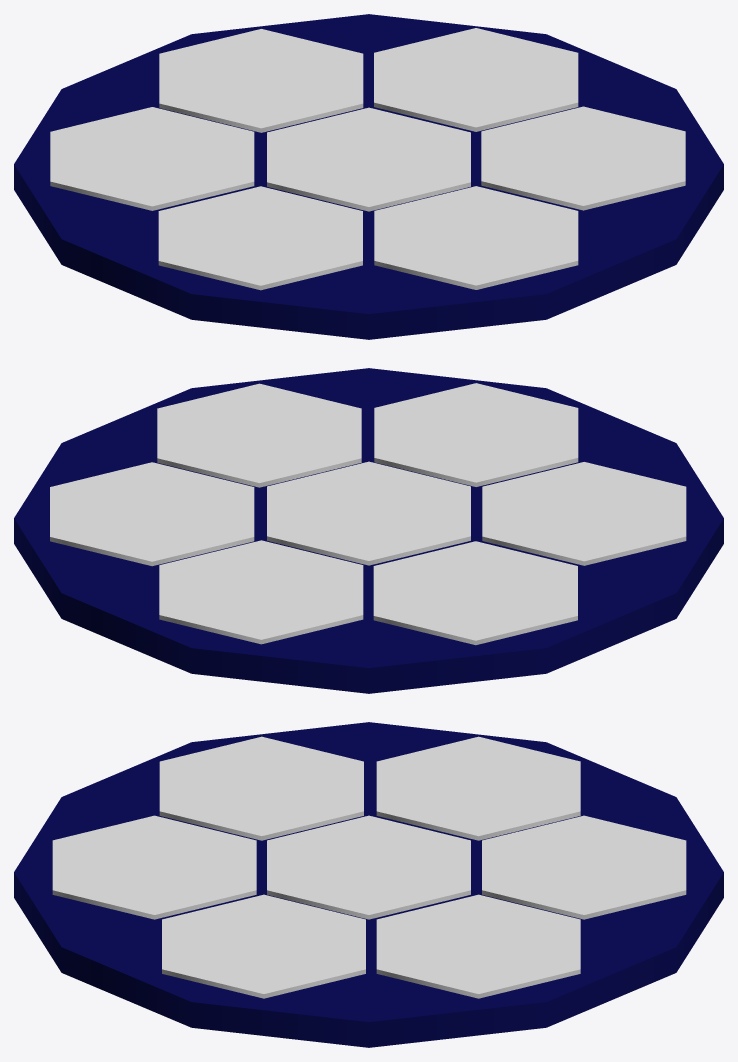
The model's file is sheild.FBX.
3 renders of one model, top to bottom at view 1: azimuth 30°, elevation 25°; view 2: azimuth 150°, elevation 25°; view 3: azimuth 270°, elevation 25°, orthographic.
Parts seen in each view (by area): view 1: Cylinder002, Cylinder004, Cylinder005, Cylinder006, Cylinder003, Cylinder007, Cylinder008, Cylinder001; view 2: Cylinder002, Cylinder004, Cylinder003, Cylinder006, Cylinder008, Cylinder005, Cylinder007, Cylinder001; view 3: Cylinder002, Cylinder007, Cylinder005, Cylinder006, Cylinder004, Cylinder003, Cylinder008, Cylinder001.
Part boxes in pixels (bbox=[...]): Cylinder002: bbox=[14, 14, 723, 339]; Cylinder004: bbox=[159, 29, 363, 132]; Cylinder005: bbox=[374, 28, 578, 131]; Cylinder006: bbox=[158, 186, 362, 290]; Cylinder003: bbox=[50, 107, 254, 210]; Cylinder007: bbox=[374, 186, 578, 289]; Cylinder008: bbox=[481, 106, 685, 210]; Cylinder001: bbox=[267, 107, 470, 211]; Cylinder002: bbox=[14, 368, 723, 693]; Cylinder004: bbox=[159, 540, 363, 644]; Cylinder003: bbox=[373, 541, 577, 645]; Cylinder006: bbox=[482, 462, 686, 565]; Cylinder008: bbox=[157, 383, 361, 487]; Cylinder005: bbox=[50, 462, 254, 566]; Cylinder007: bbox=[374, 383, 578, 486]; Cylinder001: bbox=[267, 461, 470, 565]; Cylinder002: bbox=[14, 722, 723, 1047]; Cylinder007: bbox=[52, 815, 256, 919]; Cylinder005: bbox=[376, 894, 580, 998]; Cylinder006: bbox=[159, 736, 363, 840]; Cylinder004: bbox=[482, 815, 686, 919]; Cylinder003: bbox=[376, 736, 580, 840]; Cylinder008: bbox=[162, 894, 365, 998]; Cylinder001: bbox=[267, 815, 470, 919].
Size of the model in its own units: 203 by 10.25 by 203.
